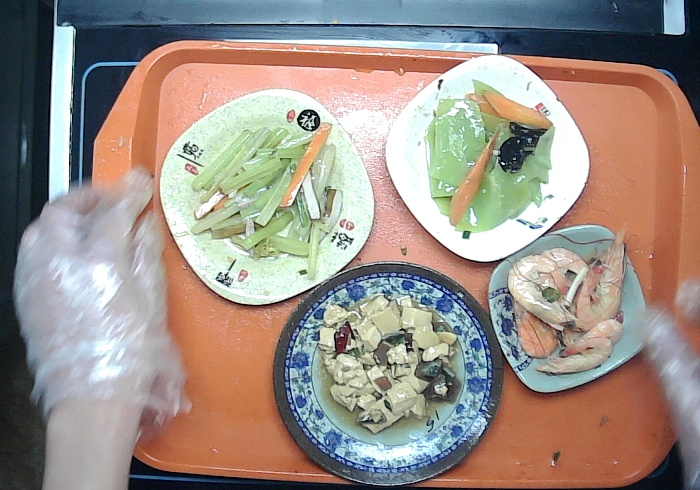NLDX-Bai_Se_Xiao_Fang_Die: (384, 52, 590, 265)
NLDX-Fu_Zi_Fang_Die: (157, 86, 375, 309)
NLDX-Qing_Hua_Xiao_Fang_Die: (487, 222, 649, 395)
NLDX-Qing_Hua_Yuan_Die: (272, 260, 497, 486)
